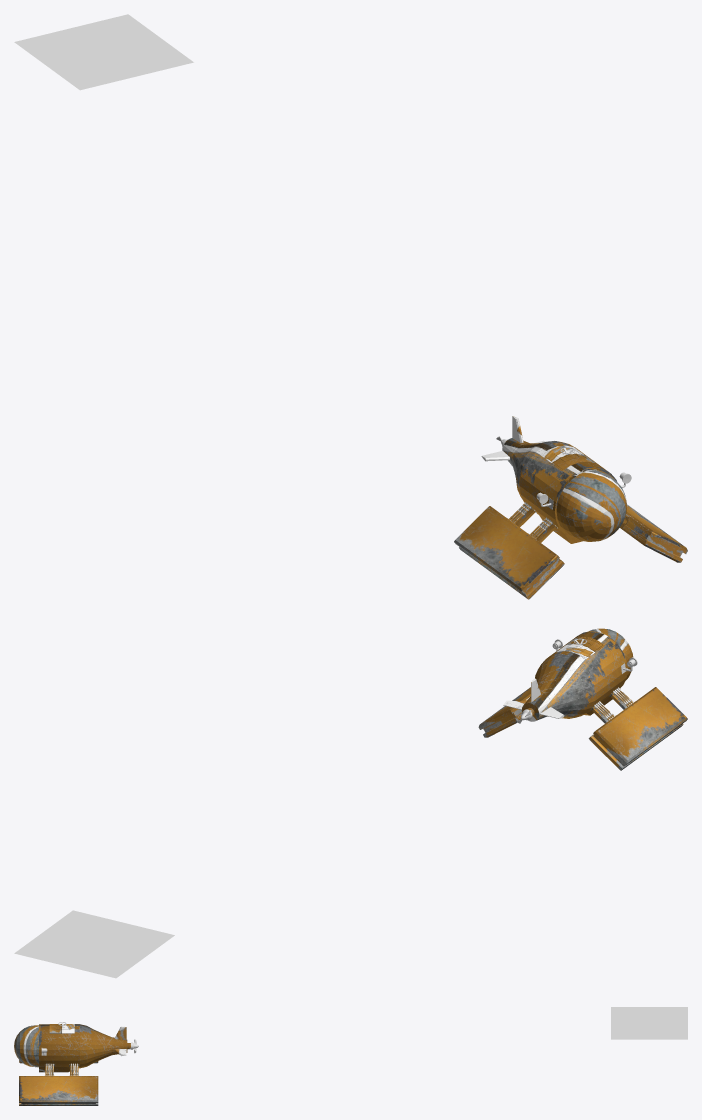
The model's file is terrain1.dae.
3 views of the same model, one above another, from view 1: azimuth 30°, elevation 25°; view 2: azimuth 150°, elevation 25°; view 3: azimuth 270°, elevation 25° (orthographic). The views are drawn at different scales.
Parts seen in each view (by area): view 1: body, 平面, float; view 2: body, 平面, float, enganche_2; view 3: body, 平面, float, enganche_2.
Part boxes in pixels (box(x1,y1,x2,y2)): body: box(481, 416, 627, 543); 平面: box(14, 14, 193, 90); float: box(454, 504, 687, 599); body: box(503, 628, 633, 721); 平面: box(14, 910, 174, 978); float: box(478, 687, 687, 770); enganche_2: box(526, 687, 635, 723); body: box(14, 1024, 130, 1072); 平面: box(611, 1007, 687, 1039); float: box(19, 1060, 98, 1105); enganche_2: box(44, 1063, 79, 1075).
Bounding box in the file's own units: 27.99 × 156 × 18.43.
